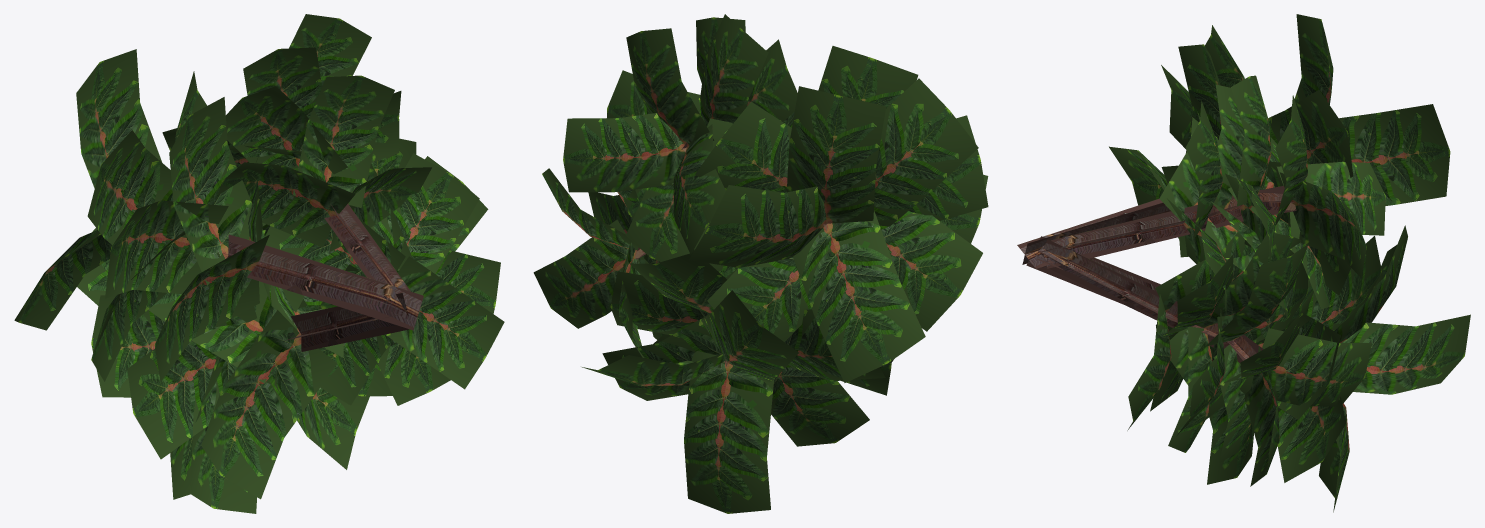
Rendered from Bush3.fbx.
3 views of the same model, side by side, from view 1: azimuth 30°, elevation 25°; view 2: azimuth 150°, elevation 25°; view 3: azimuth 270°, elevation 25° (orthographic). The views are drawn at different scales.
Parts seen in each view (by area): view 1: polySurface10; view 2: polySurface10; view 3: polySurface10.
Part boxes in pixels (bbox=[...]): polySurface10: bbox=[14, 14, 504, 513]; polySurface10: bbox=[533, 14, 988, 513]; polySurface10: bbox=[1017, 14, 1470, 512].
Size of the model in its own units: 24.62 by 25.5 by 23.75.
